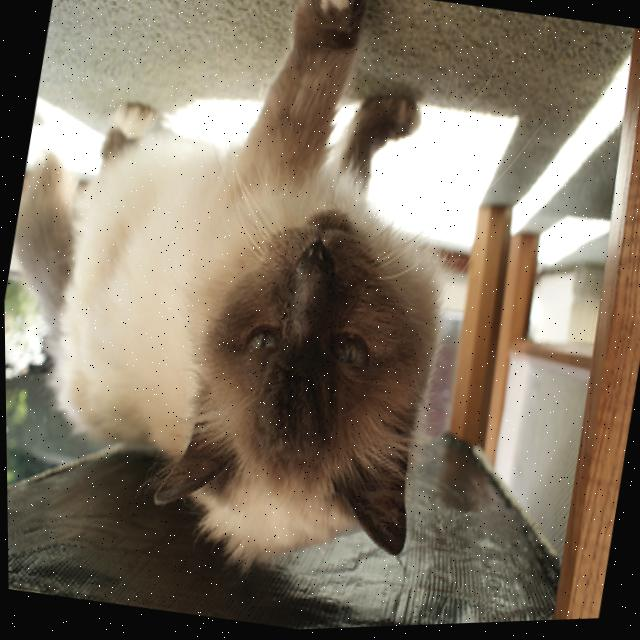Birman: (0, 0, 502, 608)
